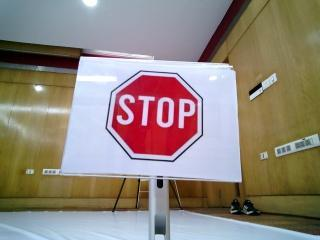stop: (76, 59, 231, 173)
